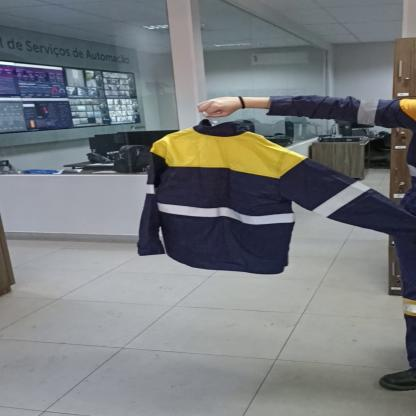C_eletrica: (136, 122, 409, 276)
